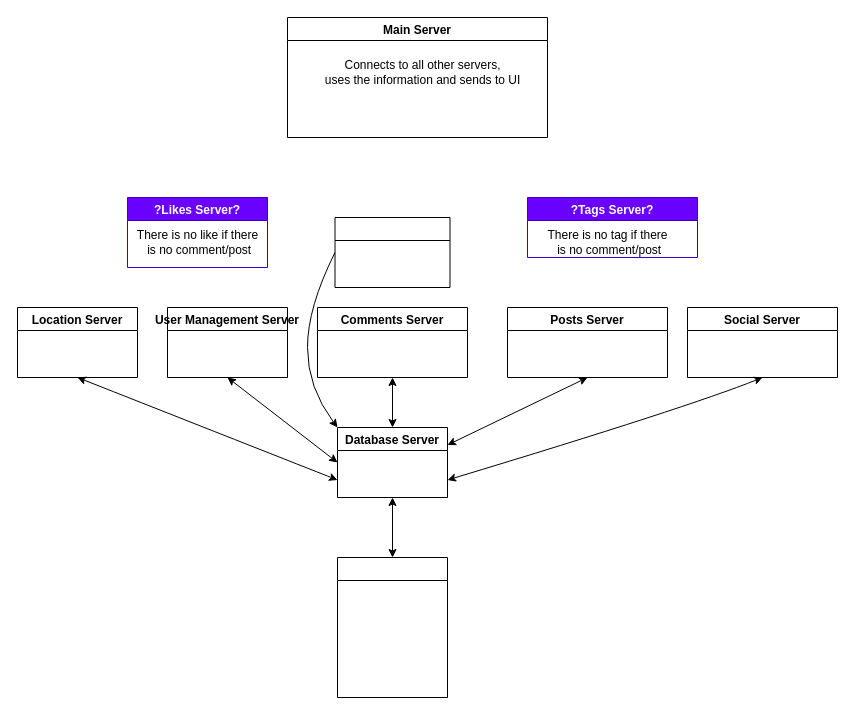
Some shapes in this 855 by 715 pixel diagram are drawn without their labels. Here are the shapes that lost their labels. From the top down, the centre of each, then its label:
At point (392, 252): "Notification Server".
At point (392, 627): "Database MongoDB".
